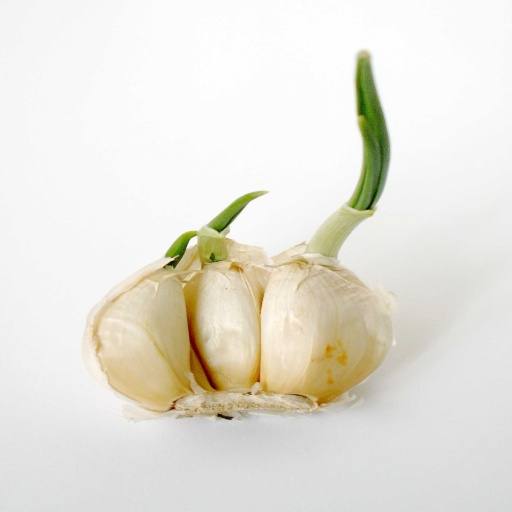Knoblauch: (81, 49, 398, 421)
